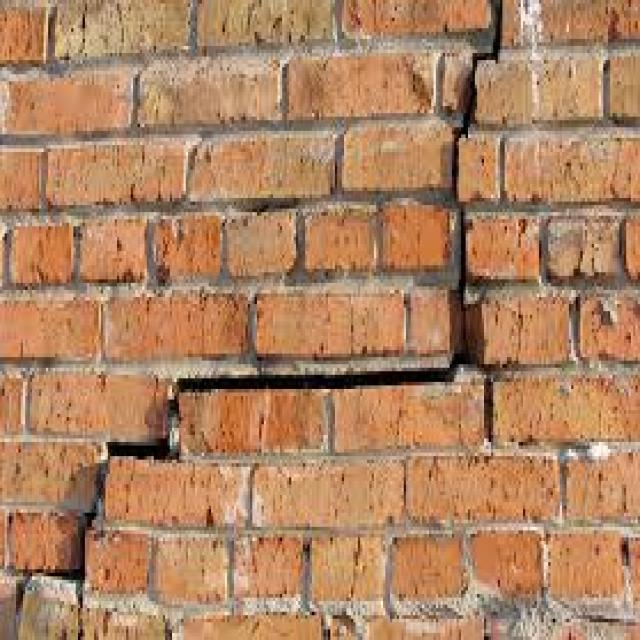Crack: (9, 0, 509, 619)
